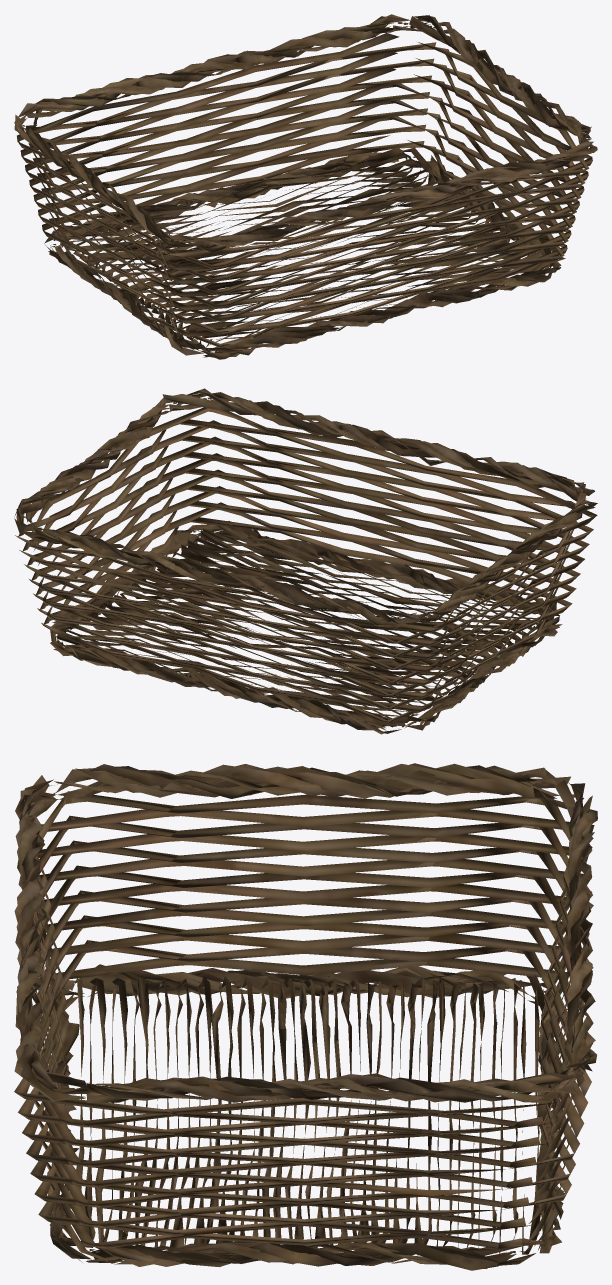
File: prop_basket.glb
3 views of the same model, one above another, from view 1: azimuth 30°, elevation 25°; view 2: azimuth 150°, elevation 25°; view 3: azimuth 270°, elevation 25° (orthographic). The views are drawn at different scales.
Parts seen in each view (by area): view 1: wicker_basket_01; view 2: wicker_basket_01; view 3: wicker_basket_01.
Part boxes in pixels (x1,y1,x2,y2): wicker_basket_01: [14, 14, 597, 359]; wicker_basket_01: [14, 388, 597, 734]; wicker_basket_01: [14, 763, 597, 1270].
Size of the model in its own units: 0.7767 by 0.24 by 0.5938.
Materials: 1 (1 with a texture image).
